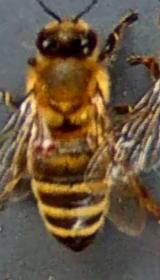varroa_mite: (28, 131, 66, 158)
